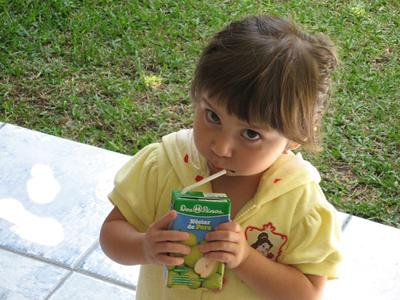person: (99, 12, 342, 298)
